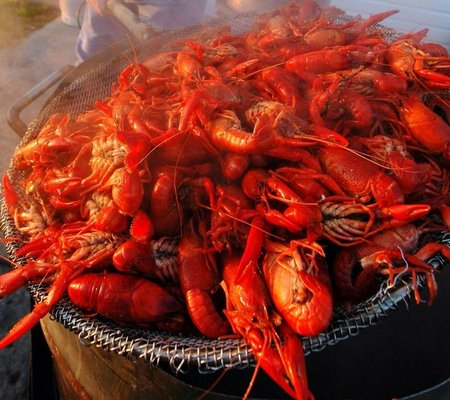sandwich: (1, 0, 449, 392)
